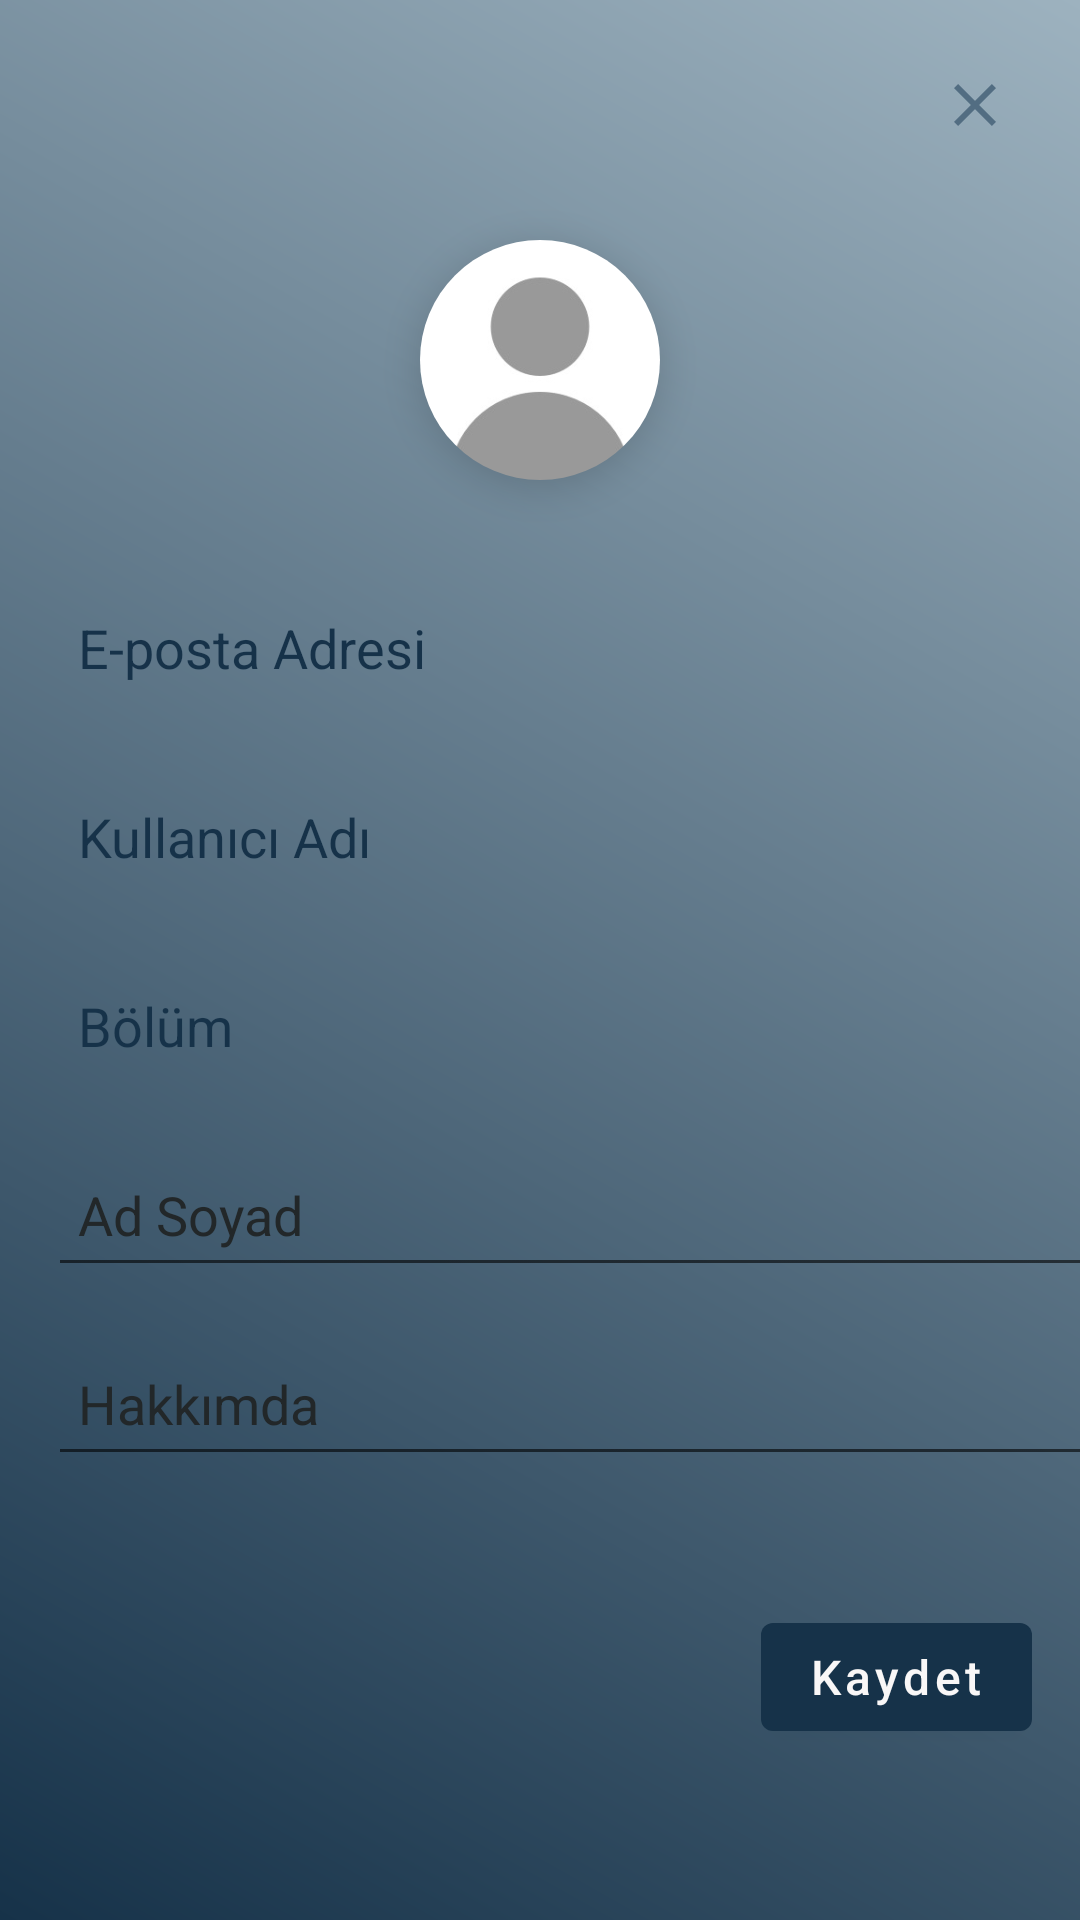

Icon click points for this 1080 × 1920 phone screenshot, format point (x, y):
close: point (975, 105)
Profil Fotoğrafı: point (540, 360)
